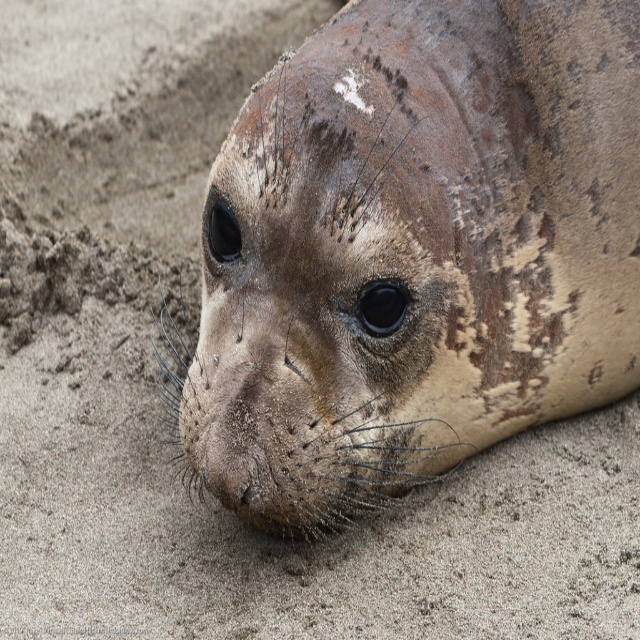Sea lion: (146, 0, 640, 579)
